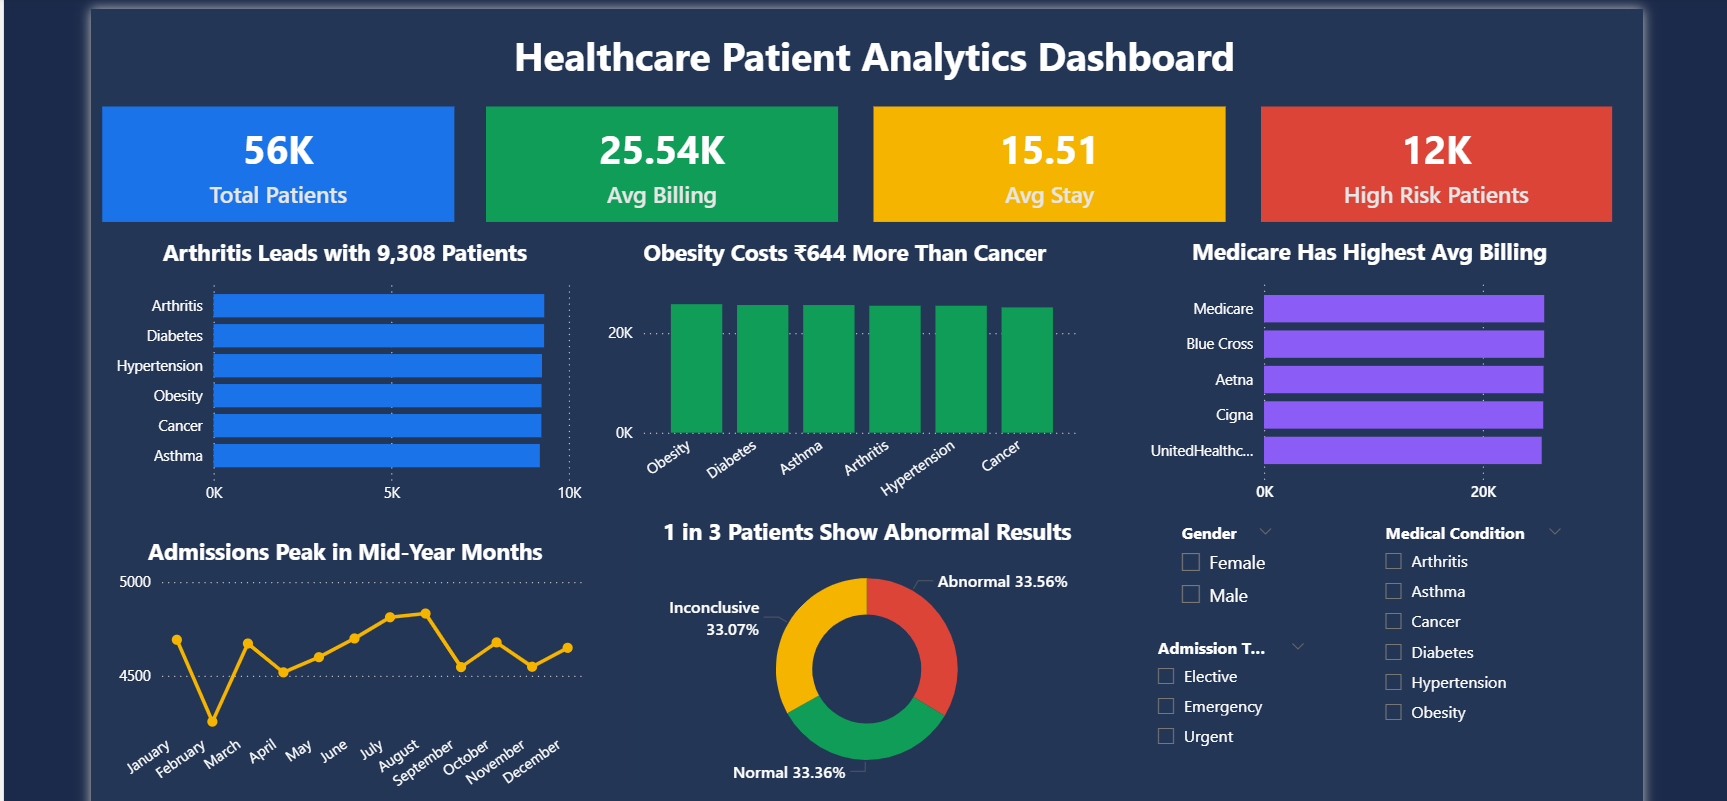

Layout of this report page (visuals, bound fields, positions):
{"tool":"powerbi","page":{"name":"Page 1","canvas":[1280,720],"ordinal":0},"visuals":[{"type":"card","fields":{"Values":["healthcare_cleaned.Total Patients"]},"box":[9.3,80.2,290.7,95.3],"z":0},{"type":"card","fields":{"Values":["healthcare_cleaned.Avg Billing"]},"box":[325.6,80.2,290.7,95.3],"z":1000},{"type":"card","fields":{"Values":["healthcare_cleaned.Avg Stay"]},"box":[645.4,80.2,290.7,95.3],"z":2000},{"type":"card","fields":{"Values":["healthcare_cleaned.High Risk Patients"]},"box":[965.1,80.2,289.5,95.3],"z":3000},{"type":"clusteredBarChart","title":"Arthritis Leads with 9,308 Patients","fields":{"Category":["healthcare_cleaned.Medical Condition"],"Y":["healthcare_cleaned.Total Patients"]},"box":[9.3,187.2,400,230],"z":4000},{"type":"columnChart","title":"Obesity Costs ₹644 More Than Cancer","fields":{"Y":["healthcare_cleaned.Avg Billing"],"Category":["healthcare_cleaned.Medical Condition"]},"box":[422.1,187.2,400,230],"z":5000},{"type":"lineChart","title":"Admissions Peak in Mid-Year Months","fields":{"Category":["healthcare_cleaned.Date of Admission.Variation.Date Hierarchy.Month"],"Y":["healthcare_cleaned.Total Patients"]},"box":[8.9,434.1,400.7,230.4],"z":6000},{"type":"textbox","title":"Healthcare Patient Analytics Dashboard","box":[222.1,16.3,848.8,47.7],"z":7000},{"type":"donutChart","title":"1 in 3 Patients Show Abnormal Results","fields":{"Category":["healthcare_cleaned.Test Results"],"Y":["healthcare_cleaned.Total Patients"]},"box":[439.7,417.4,399.6,229.3],"z":8000},{"type":"barChart","title":"Medicare Has Highest Avg Billing","fields":{"Category":["healthcare_cleaned.Insurance Provider"],"Y":["healthcare_cleaned.Avg Billing"]},"box":[854.9,187,399.6,230.4],"z":9000},{"type":"slicer","fields":{"Values":["healthcare_cleaned.Gender"]},"box":[886.1,417.4,100.2,84.6],"z":10000},{"type":"slicer","fields":{"Values":["healthcare_cleaned.Admission Type"]},"box":[867.4,512.8,146.5,111.6],"z":11000},{"type":"slicer","fields":{"Values":["healthcare_cleaned.Medical Condition"]},"box":[1054.7,417.4,170.9,190.7],"z":12000}]}

Visuals, with their boxes on the page's 1280x720 design canvas (x1, y1, x2, y2). These are canvas units, not pixel positions in the 1727x801 screenshot, which may show the page scaled, cropped or inside an application window:
card - healthcare_cleaned.Total Patients: 9,80,300,176
card - healthcare_cleaned.Avg Billing: 326,80,616,176
card - healthcare_cleaned.Avg Stay: 645,80,936,176
card - healthcare_cleaned.High Risk Patients: 965,80,1255,176
"Arthritis Leads with 9,308 Patients" clusteredBarChart: 9,187,409,417
"Obesity Costs ₹644 More Than Cancer" columnChart: 422,187,822,417
"Admissions Peak in Mid-Year Months" lineChart: 9,434,410,664
"Healthcare Patient Analytics Dashboard" textbox: 222,16,1071,64
"1 in 3 Patients Show Abnormal Results" donutChart: 440,417,839,647
"Medicare Has Highest Avg Billing" barChart: 855,187,1254,417
slicer - healthcare_cleaned.Gender: 886,417,986,502
slicer - healthcare_cleaned.Admission Type: 867,513,1014,624
slicer - healthcare_cleaned.Medical Condition: 1055,417,1226,608
